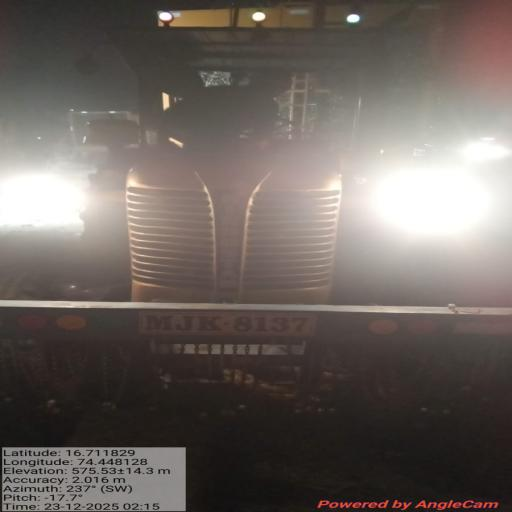number_plate: (140, 312, 315, 336)
